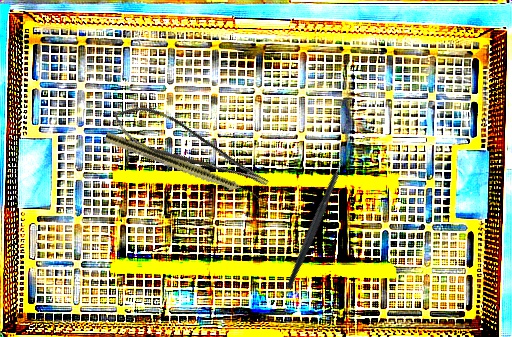Chopper: (244, 148, 384, 290)
Handpiece: (103, 131, 266, 204)
Micro Scissor: (106, 90, 273, 213)
